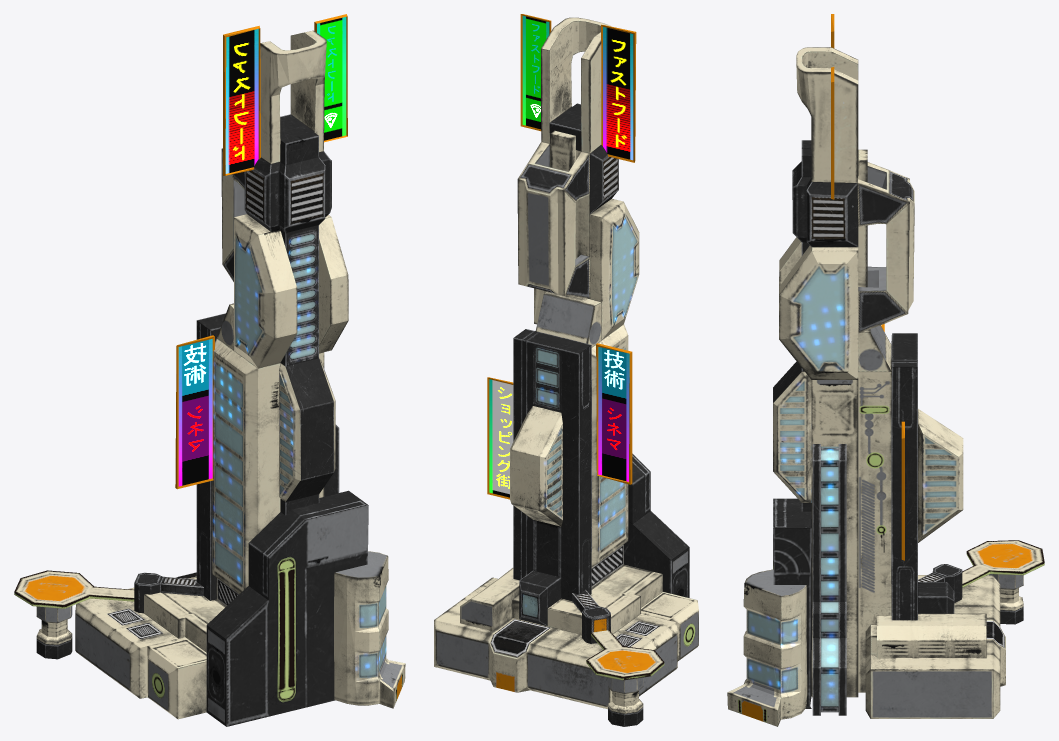
The model's file is BLD1310023.fbx.
3 views of the same model, side by side, from view 1: azimuth 30°, elevation 25°; view 2: azimuth 150°, elevation 25°; view 3: azimuth 270°, elevation 25° (orthographic). The views are drawn at different scales.
Parts seen in each view (by area): view 1: smBLD1310023; view 2: smBLD1310023; view 3: smBLD1310023.
Part boxes in pixels (x1=…): smBLD1310023: x1=14, y1=14, x2=405, y2=726; smBLD1310023: x1=434, y1=14, x2=698, y2=726; smBLD1310023: x1=727, y1=14, x2=1044, y2=726.
Size of the model in its own units: 1832 by 4345 by 1949.
2 materials, 2 textured.
